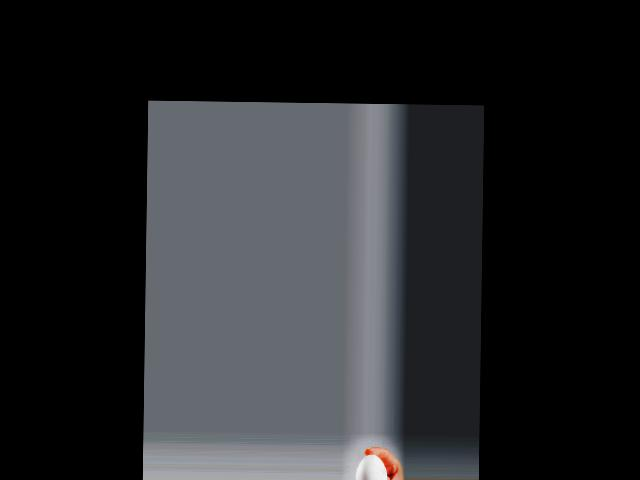egg: (356, 453, 386, 480)
